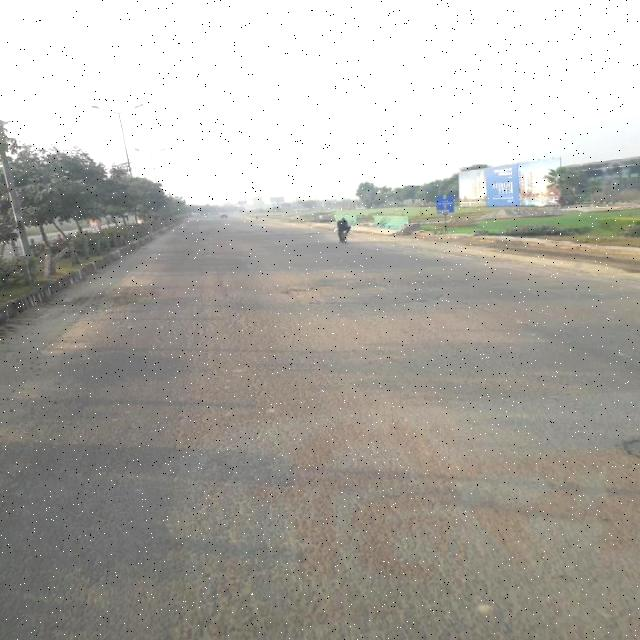D20: (47, 315, 606, 616)
D40: (285, 258, 401, 308), (47, 268, 163, 316)
